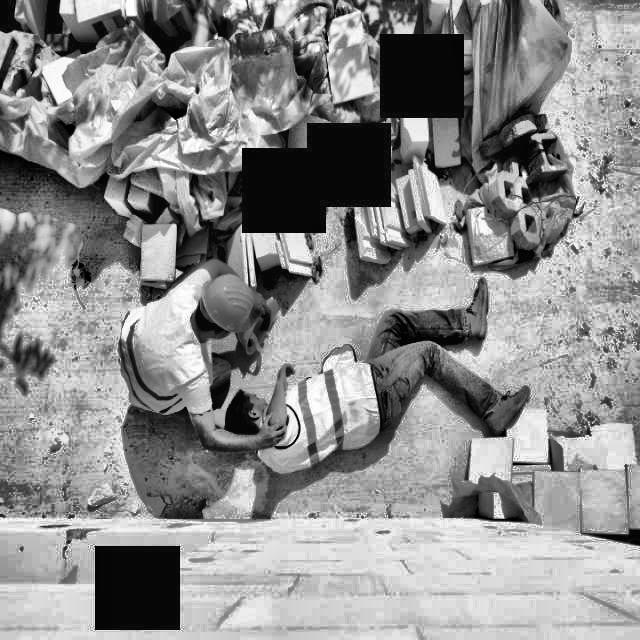safety_helmet: (195, 269, 264, 337)
safety_jacket: (252, 340, 386, 479), (115, 280, 222, 427)
